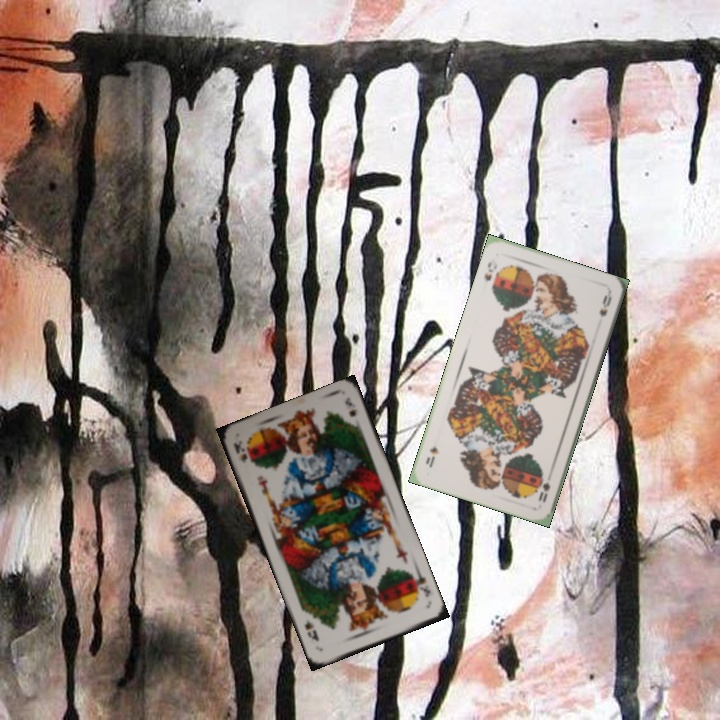SK: (407, 568, 433, 600), (230, 436, 250, 465)
SO: (480, 254, 500, 284), (534, 474, 553, 505)
